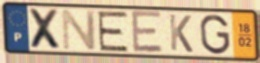E: (130, 9, 165, 55), (96, 11, 131, 53)
G: (198, 13, 232, 56)
K: (167, 13, 195, 54)
N: (60, 8, 98, 52)
X: (27, 7, 65, 52)
